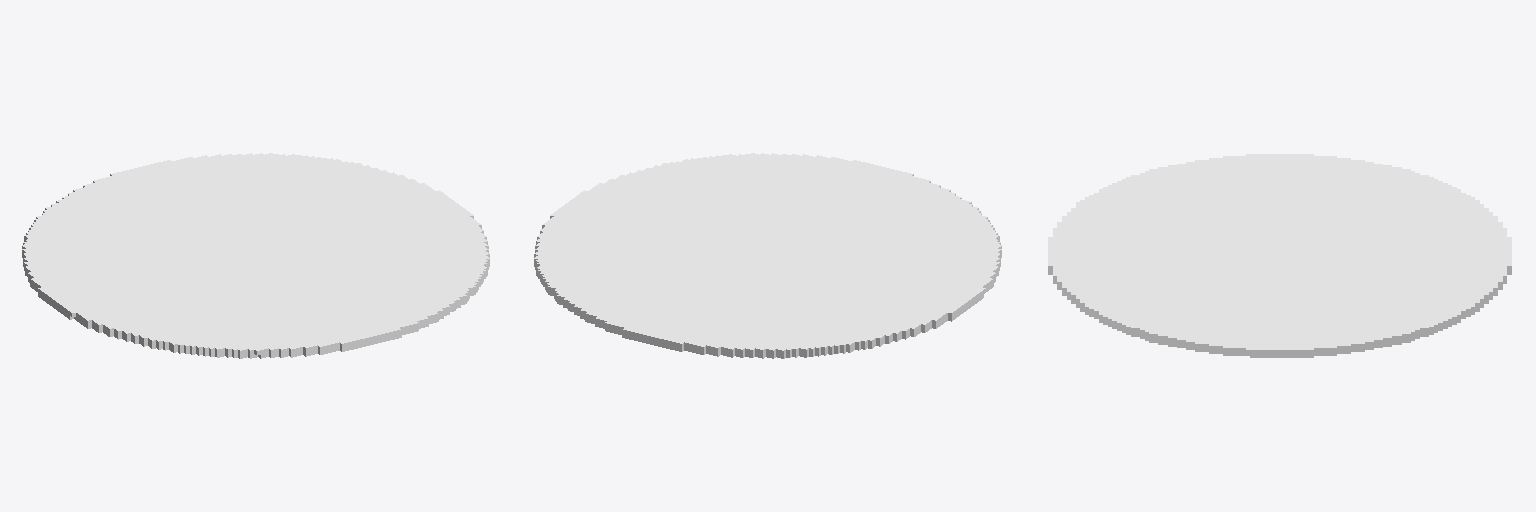
Rendered from Clock.obj.
3 renders of one model, left to right at view 1: azimuth 30°, elevation 25°; view 2: azimuth 150°, elevation 25°; view 3: azimuth 270°, elevation 25°, orthographic.
Size of the model in its own units: 101 by 2 by 101.